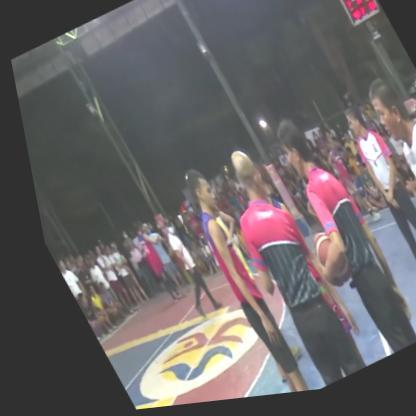basketball: (292, 235, 348, 300)
